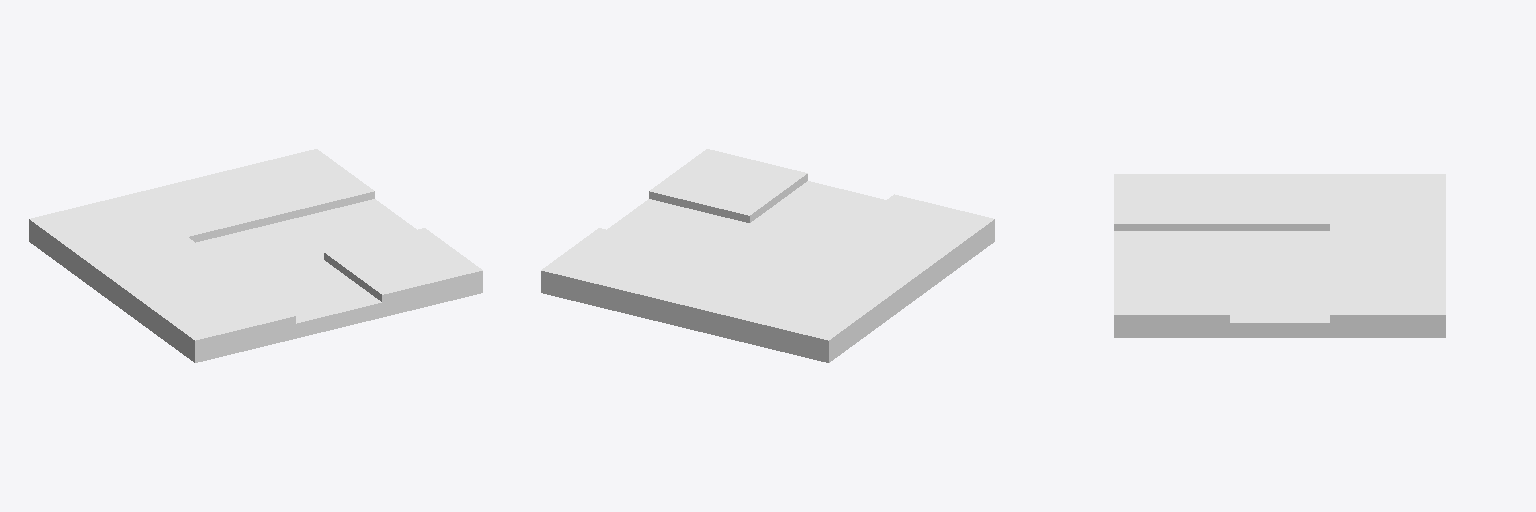
Rendered from newCorner.obj.
3 renders of one model, left to right at view 1: azimuth 30°, elevation 25°; view 2: azimuth 150°, elevation 25°; view 3: azimuth 270°, elevation 25°, orthographic.
Parts seen in each view (by area): view 1: newCorner; view 2: newCorner; view 3: newCorner.
Boxes of the visible parts, x1=… form: newCorner: x1=29, y1=149, x2=482, y2=362; newCorner: x1=541, y1=149, x2=994, y2=362; newCorner: x1=1114, y1=174, x2=1445, y2=337.
Size of the model in its own units: 40 by 3 by 40.